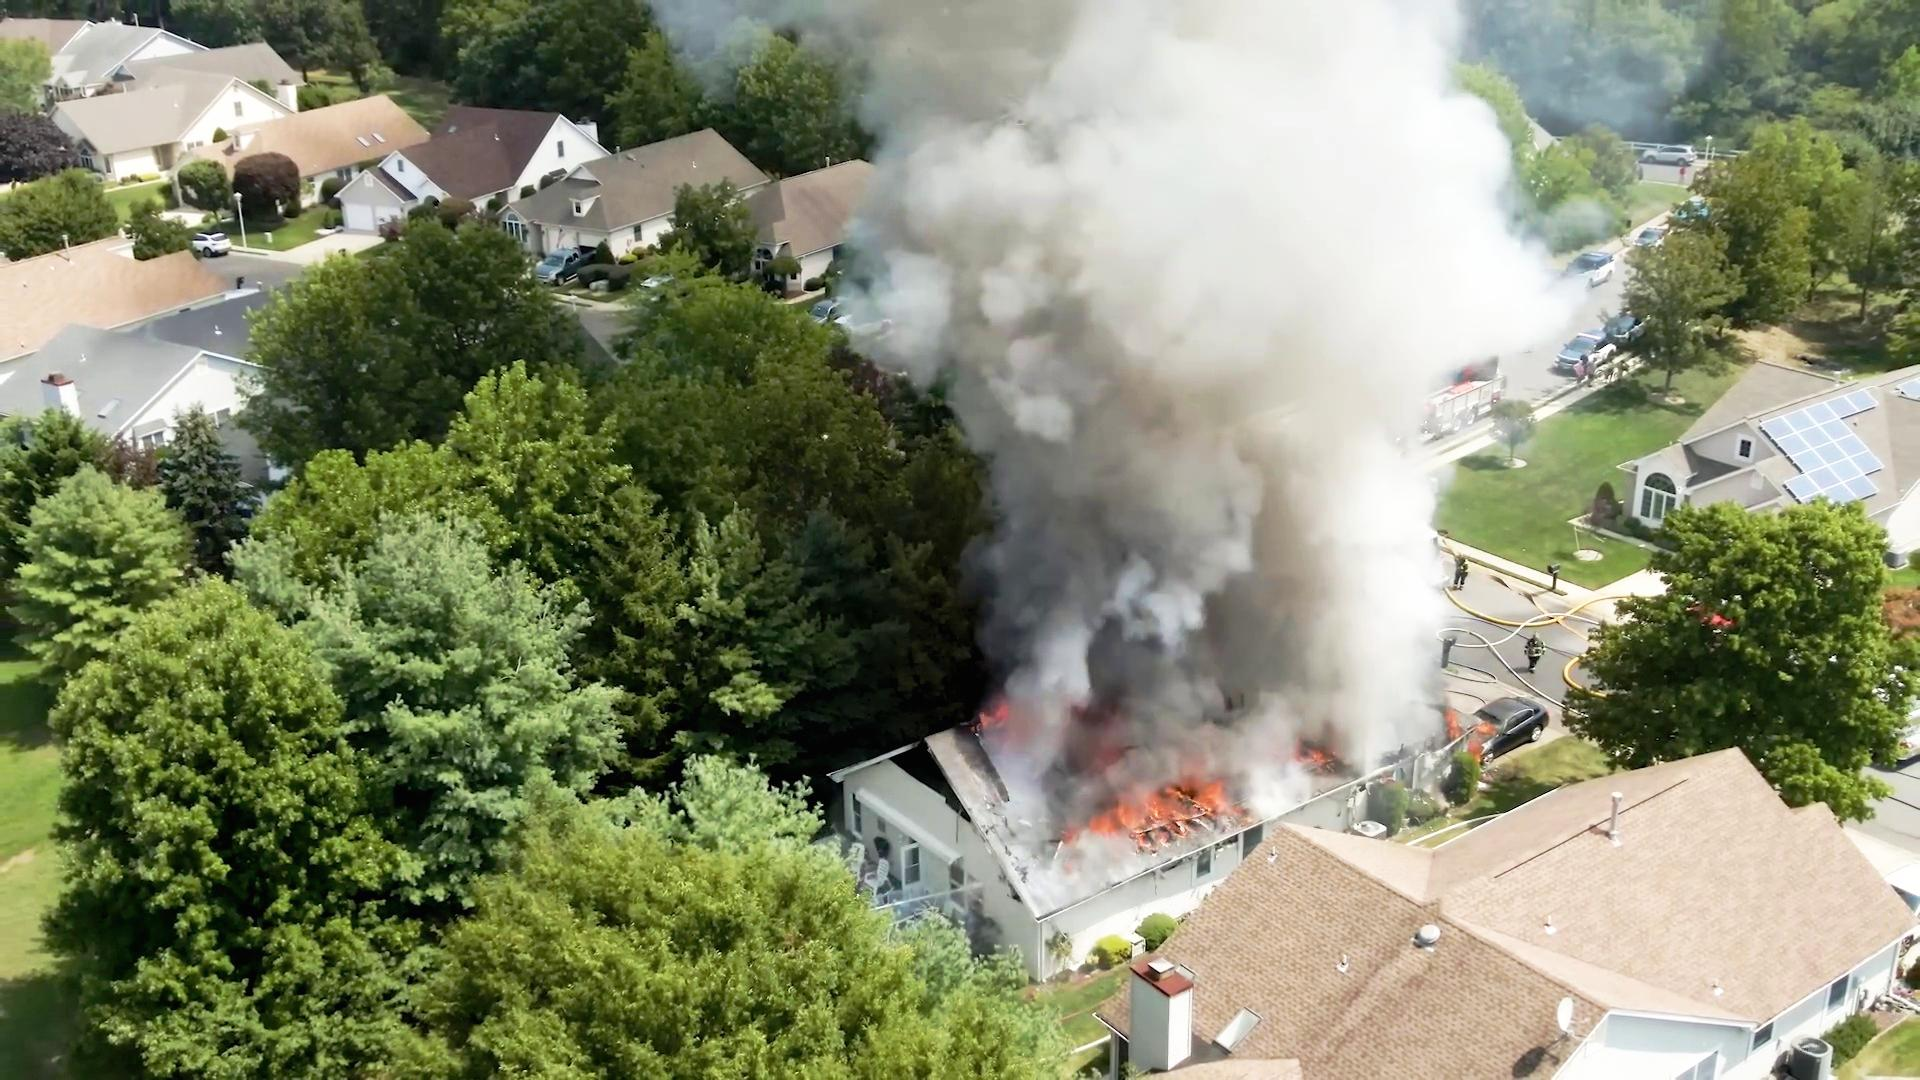smoke: (953, 3, 1399, 406), (990, 375, 1461, 688), (1009, 452, 1433, 625)
